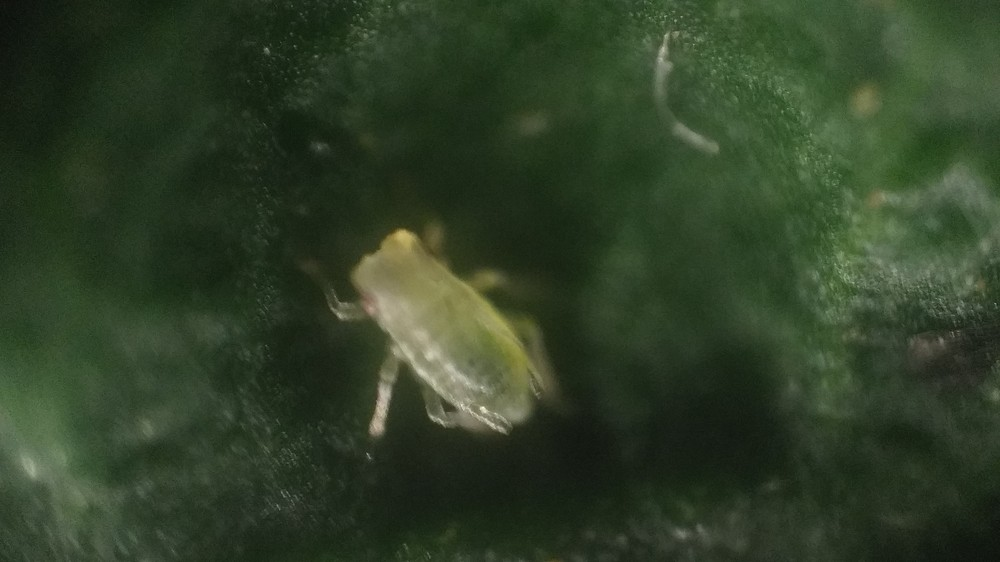Pulgon: (285, 187, 648, 488)
